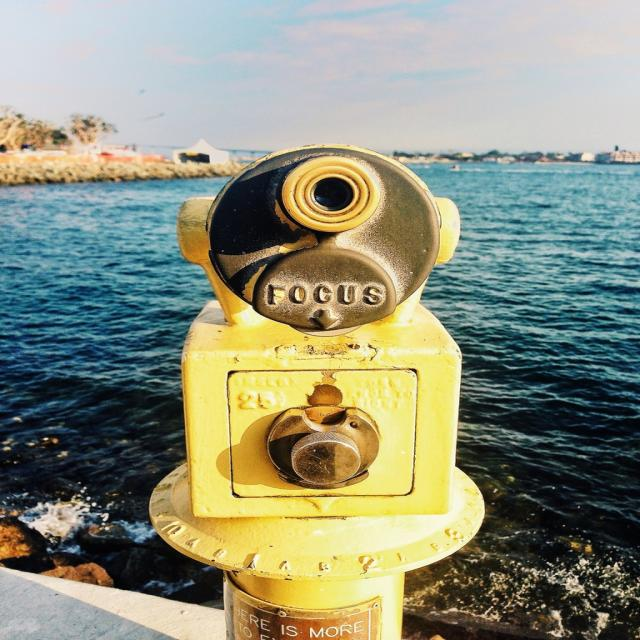fire_hydrant: (148, 145, 486, 640)
